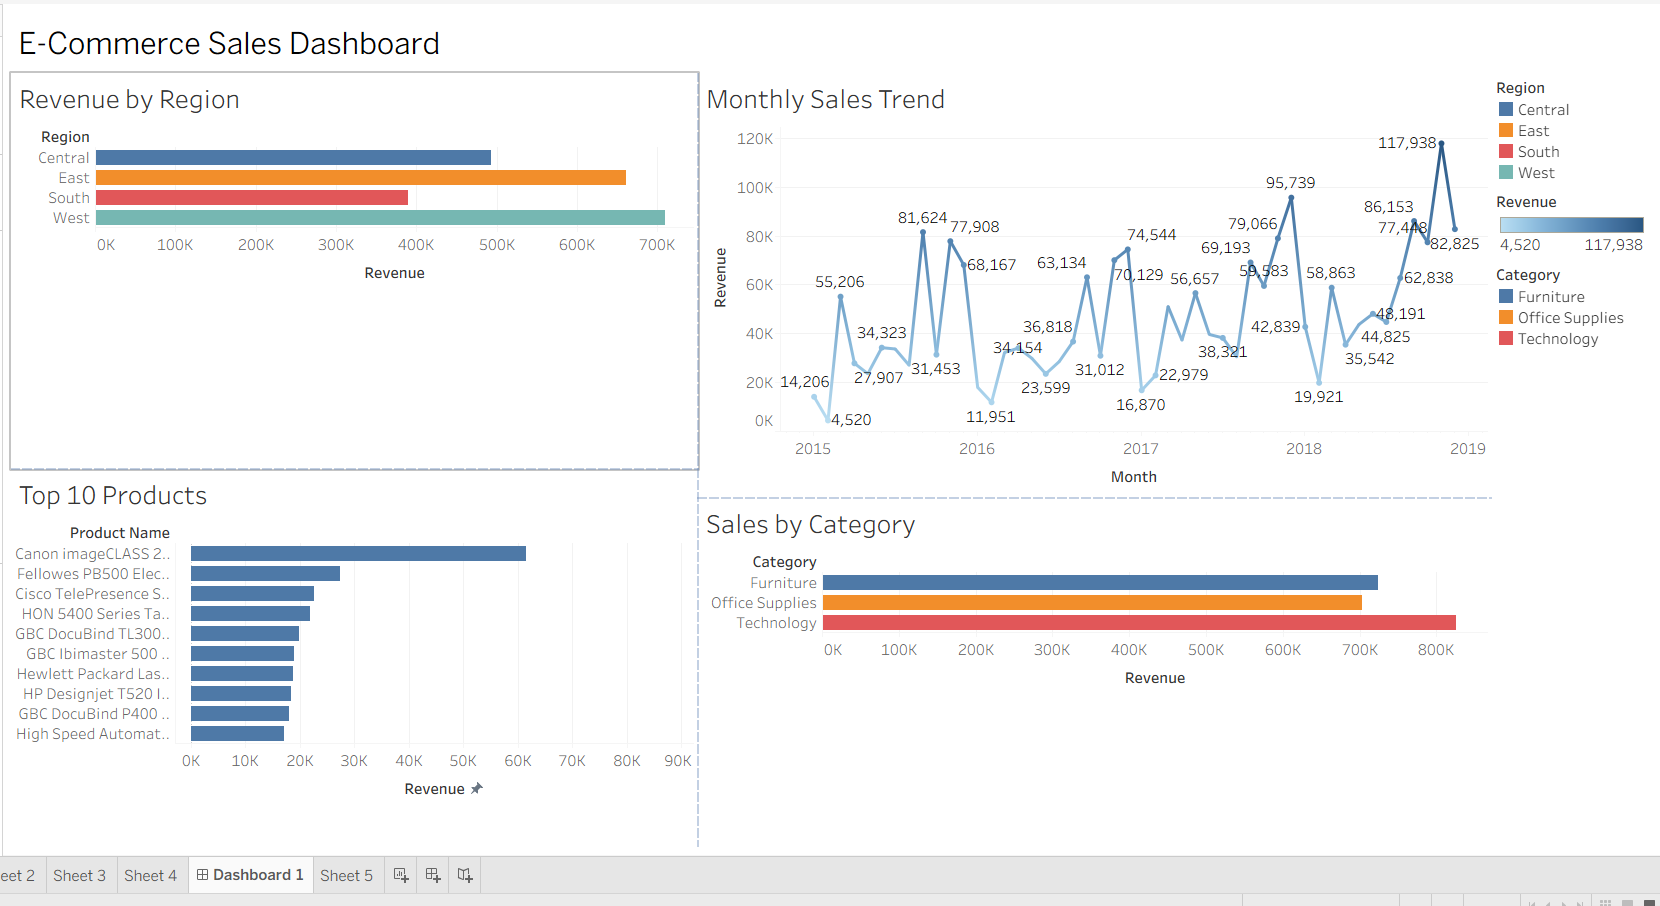

What the dashboard file says about the page in this screenshot:
{"tool":"tableau","page":{"name":"Dashboard 1","canvas":[1000,1000],"units":"permille","ordinal":0},"visuals":[{"type":"title","box":[4.8,9.4,990.3,71.7]},{"type":"worksheet","title":"Sheet 1","mark":"Automatic","rows":["Region"],"cols":["Revenue"],"box":[4.8,81.1,414.6,465.3]},{"type":"worksheet","title":"Sheet 2","mark":"Line","rows":["Revenue"],"cols":["Month"],"box":[419.4,81.1,479.2,499.4]},{"type":"legend","title":"Sheet 1","param":"[federated.0jytg8x1k8k5kh1gfkw020yq1tti].[none:Region:nk]","box":[898.6,81.1,96.6,134]},{"type":"legend","title":"Sheet 2","param":"[federated.0jytg8x1k8k5kh1gfkw020yq1tti].[sum:Revenue:qk]","box":[898.6,215,96.6,85.8]},{"type":"legend","title":"Sheet 4","param":"[federated.0jytg8x1k8k5kh1gfkw020yq1tti].[none:Category:nk]","box":[898.6,300.8,96.6,109.3]},{"type":"worksheet","title":"Sheet 3","mark":"Automatic","rows":["Product Name"],"cols":["Revenue"],"box":[4.8,546.4,414.6,444.2]},{"type":"worksheet","title":"Sheet 4","mark":"Automatic","rows":["Category"],"cols":["Revenue"],"box":[419.4,580.4,479.2,410.2]}]}

Visuals, with their boxes on the dashboard's canvas, which has no fixed pixel size, in thousandths of its width and height (x1, y1, x2, y2). These are canvas units, not pixel positions in the 1660x906 screenshot, which may show the page scaled, cropped or inside an application window:
title: <region>5, 9, 995, 81</region>
"Sheet 1" worksheet: <region>5, 81, 419, 546</region>
"Sheet 2" worksheet (Line marks): <region>419, 81, 899, 580</region>
"Sheet 1" legend: <region>899, 81, 995, 215</region>
"Sheet 2" legend: <region>899, 215, 995, 301</region>
"Sheet 4" legend: <region>899, 301, 995, 410</region>
"Sheet 3" worksheet: <region>5, 546, 419, 991</region>
"Sheet 4" worksheet: <region>419, 580, 899, 991</region>
